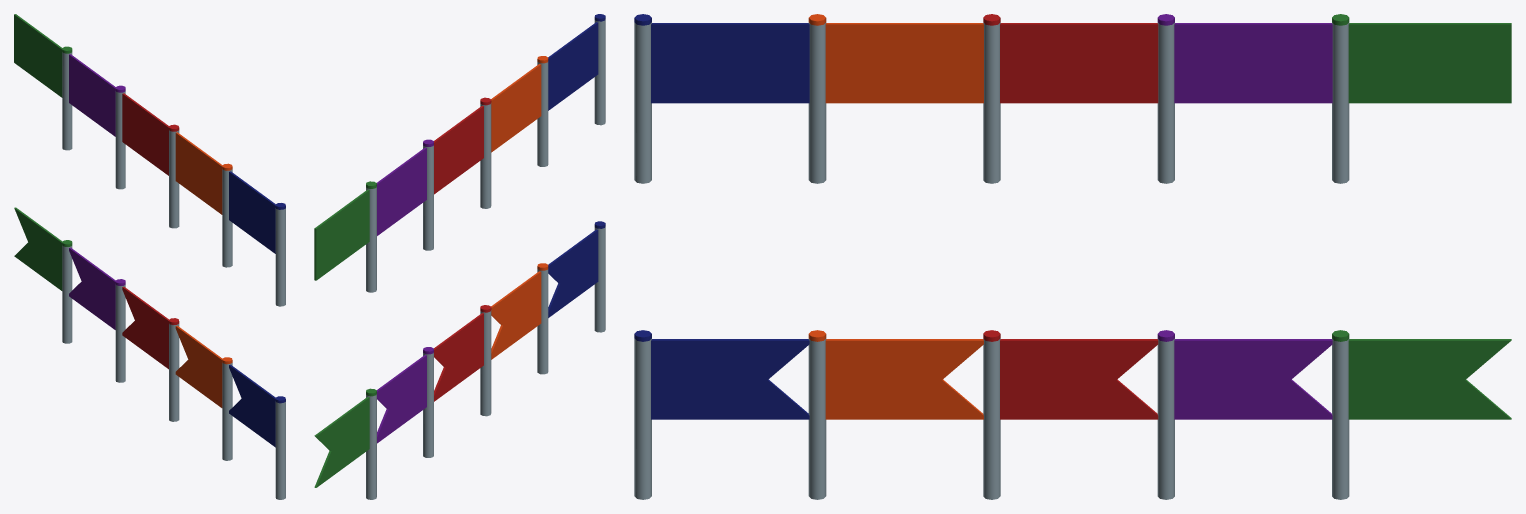
File: Flags.fbx
The picture shows the model from 3 angles, left to right: view 1: azimuth 30°, elevation 25°; view 2: azimuth 150°, elevation 25°; view 3: azimuth 270°, elevation 25°; orthographic projection. The views are drawn at different scales.
Parts seen in each view (by area): view 1: Flag2_Blue, Flag2_Green, Flag2_Purple, Flag2_Orange, Flag2_Red, Flag1_Blue, Flag1_Red, Flag1_Green, Flag1_Orange, Flag1_Purple; view 2: Flag2_Green, Flag2_Blue, Flag2_Red, Flag2_Orange, Flag2_Purple, Flag1_Red, Flag1_Orange, Flag1_Blue, Flag1_Green, Flag1_Purple; view 3: Flag2_Green, Flag2_Blue, Flag2_Orange, Flag2_Red, Flag2_Purple, Flag1_Orange, Flag1_Blue, Flag1_Purple, Flag1_Green, Flag1_Red.
Boxes of the visible parts, <box> form: Flag2_Blue: <box>229,171,285,306</box>; Flag2_Green: <box>14,14,72,150</box>; Flag2_Purple: <box>69,54,125,189</box>; Flag2_Orange: <box>175,132,232,267</box>; Flag2_Red: <box>122,93,179,228</box>; Flag1_Blue: <box>229,364,285,499</box>; Flag1_Red: <box>122,286,179,421</box>; Flag1_Green: <box>14,207,72,343</box>; Flag1_Orange: <box>175,325,232,460</box>; Flag1_Purple: <box>69,247,125,382</box>; Flag2_Green: <box>314,181,376,292</box>; Flag2_Blue: <box>548,14,605,125</box>; Flag2_Red: <box>434,97,491,208</box>; Flag2_Orange: <box>491,56,548,166</box>; Flag2_Purple: <box>377,139,433,250</box>; Flag1_Red: <box>434,305,491,416</box>; Flag1_Orange: <box>491,263,548,374</box>; Flag1_Blue: <box>548,221,605,332</box>; Flag1_Green: <box>314,388,376,499</box>; Flag1_Purple: <box>377,347,433,457</box>; Flag2_Green: <box>1332,14,1511,183</box>; Flag2_Blue: <box>634,14,809,183</box>; Flag2_Orange: <box>808,14,983,183</box>; Flag2_Red: <box>983,14,1158,183</box>; Flag2_Purple: <box>1157,14,1332,183</box>; Flag1_Orange: <box>808,330,983,499</box>; Flag1_Blue: <box>634,330,809,499</box>; Flag1_Purple: <box>1157,330,1332,499</box>; Flag1_Green: <box>1332,330,1511,499</box>; Flag1_Red: <box>983,330,1158,499</box>.
Size of the model in its own units: 0.1 by 5.03 by 3.03.
